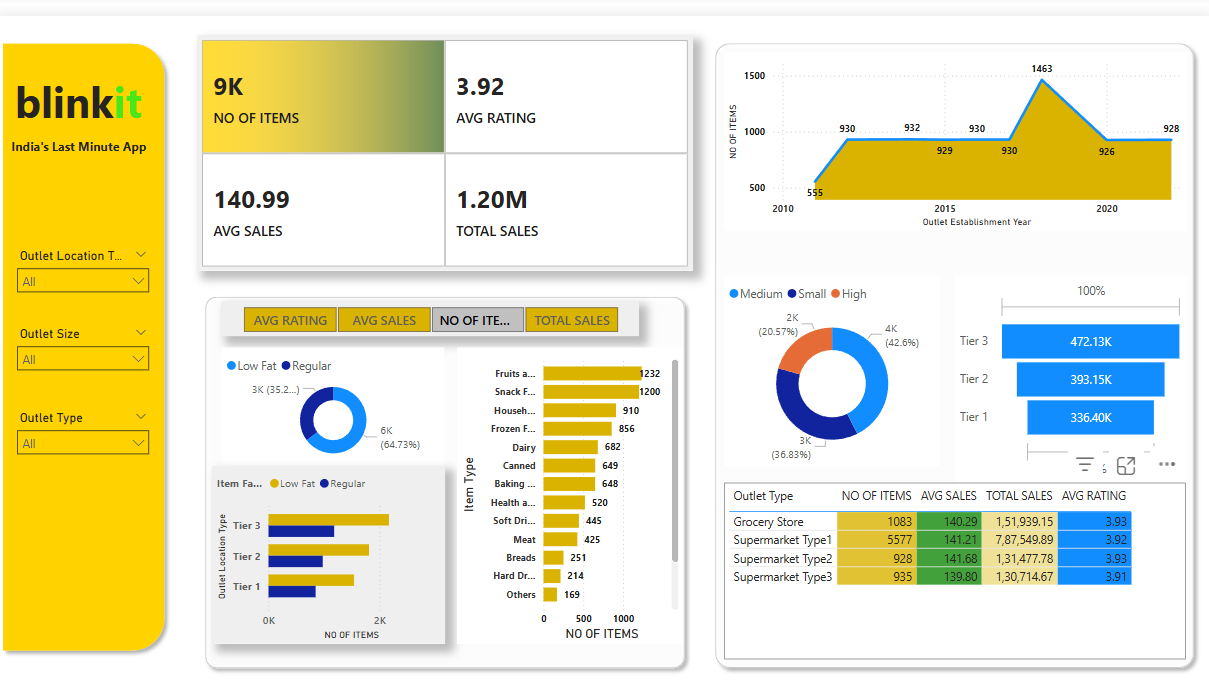

The dashboard page shown, as its layout file describes it:
{"tool":"powerbi","page":{"name":"Page 1","canvas":[1400,800],"ordinal":0},"visuals":[{"type":"shape","box":[0,22.2,203.8,715.5],"z":0},{"type":"textbox","box":[13.8,60.3,163.7,96.5],"z":1000},{"type":"textbox","box":[13.8,134.4,189.5,62],"z":2000},{"type":"cardVisual","fields":{"Data":["Query for Measures.Count rows","Query for Measures.average rating","Query for Measures.Average Sales","Query for Measures.Total Sales"]},"box":[232.6,22.2,569.3,270.3],"z":3000},{"type":"shape","box":[232.6,313.5,568.5,444.5],"z":3001},{"type":"slicer","fields":{"Values":["Metrics.Metrics"]},"box":[260.9,327.7,479.4,40.8],"z":3002},{"type":"donutChart","fields":{"Category":["BlinkIT Grocery Data.Item Fat Content"],"Y":["Query for Measures.NO OF ITEMS"]},"box":[260.9,379.9,256,137],"z":3003},{"type":"clusteredBarChart","fields":{"Category":["BlinkIT Grocery Data.Outlet Location Type"],"Series":["BlinkIT Grocery Data.Item Fat Content"],"Y":["Query for Measures.NO OF ITEMS"]},"box":[249.5,516.9,267.4,203.8],"z":3004},{"type":"clusteredBarChart","fields":{"Category":["BlinkIT Grocery Data.Item Type"],"Y":["Query for Measures.NO OF ITEMS"]},"box":[529.9,379.9,259.2,340.8],"z":3005},{"type":"shape","box":[818.5,22.8,567.4,735.3],"z":3006},{"type":"lineChart","fields":{"Category":["BlinkIT Grocery Data.Outlet Establishment Year"],"Y":["Query for Measures.NO OF ITEMS"]},"box":[836.4,40.8,531.5,205.4],"z":3007},{"type":"donutChart","fields":{"Category":["BlinkIT Grocery Data.Outlet Size"],"Y":["Query for Measures.NO OF ITEMS"]},"box":[836.4,298.4,247.8,218.5],"z":3008},{"type":"funnel","fields":{"Y":["Sum(BlinkIT Grocery Data.Sales)"],"Category":["BlinkIT Grocery Data.Outlet Location Type"]},"box":[1102.2,298.4,267.4,238],"z":3009},{"type":"tableEx","fields":{"Values":["BlinkIT Grocery Data.Outlet Type","Query for Measures.NO OF ITEMS","Query for Measures.AVG SALES","Query for Measures.TOTAL SALES","Query for Measures.AVG RATING"]},"box":[836.4,536.4,531.5,202.2],"z":3010},{"type":"slicer","fields":{"Values":["BlinkIT Grocery Data.Outlet Location Type"]},"box":[16.3,262.5,171.2,65.2],"z":3011},{"type":"slicer","fields":{"Values":["BlinkIT Grocery Data.Outlet Size"]},"box":[16.3,352.2,171.2,65.2],"z":3012},{"type":"slicer","fields":{"Values":["BlinkIT Grocery Data.Outlet Type"]},"box":[16.3,448.4,171.2,65.2],"z":3013}]}

Visuals, with their boxes in screenshot pixels (x1, y1, x2, y2), scaled from the page's 1400x800 canvas onto the 1209x698 screenshot:
shape: 0/19/176/644
textbox: 12/53/153/137
textbox: 12/117/176/171
cardVisual - Query for Measures.Count rows x Query for Measures.average rating: 201/19/692/255
shape: 201/274/692/661
slicer - Metrics.Metrics: 225/286/639/322
donutChart - BlinkIT Grocery Data.Item Fat Content x Query for Measures.NO OF ITEMS: 225/331/446/451
clusteredBarChart - BlinkIT Grocery Data.Outlet Location Type x BlinkIT Grocery Data.Item Fat Content: 215/451/446/629
clusteredBarChart - BlinkIT Grocery Data.Item Type x Query for Measures.NO OF ITEMS: 458/331/681/629
shape: 707/20/1197/661
lineChart - BlinkIT Grocery Data.Outlet Establishment Year x Query for Measures.NO OF ITEMS: 722/36/1181/215
donutChart - BlinkIT Grocery Data.Outlet Size x Query for Measures.NO OF ITEMS: 722/260/936/451
funnel - Sum(BlinkIT Grocery Data.Sales) x BlinkIT Grocery Data.Outlet Location Type: 952/260/1183/468
tableEx - BlinkIT Grocery Data.Outlet Type x Query for Measures.NO OF ITEMS: 722/468/1181/644
slicer - BlinkIT Grocery Data.Outlet Location Type: 14/229/162/286
slicer - BlinkIT Grocery Data.Outlet Size: 14/307/162/364
slicer - BlinkIT Grocery Data.Outlet Type: 14/391/162/448
